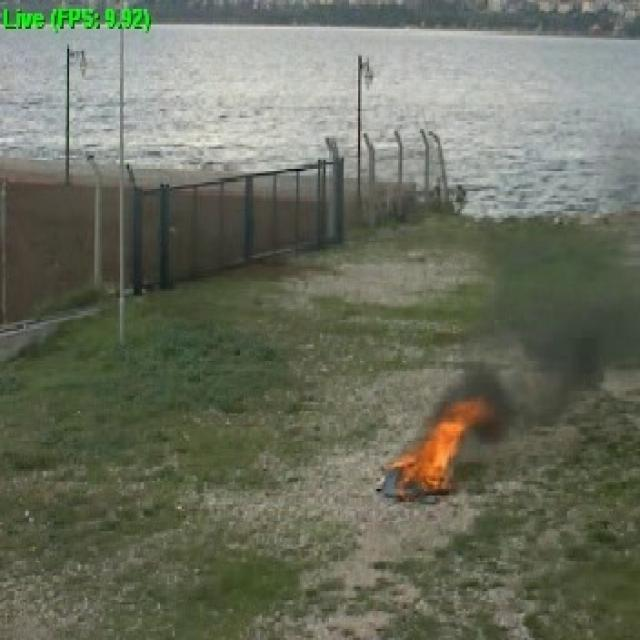fire: (409, 404, 461, 502)
